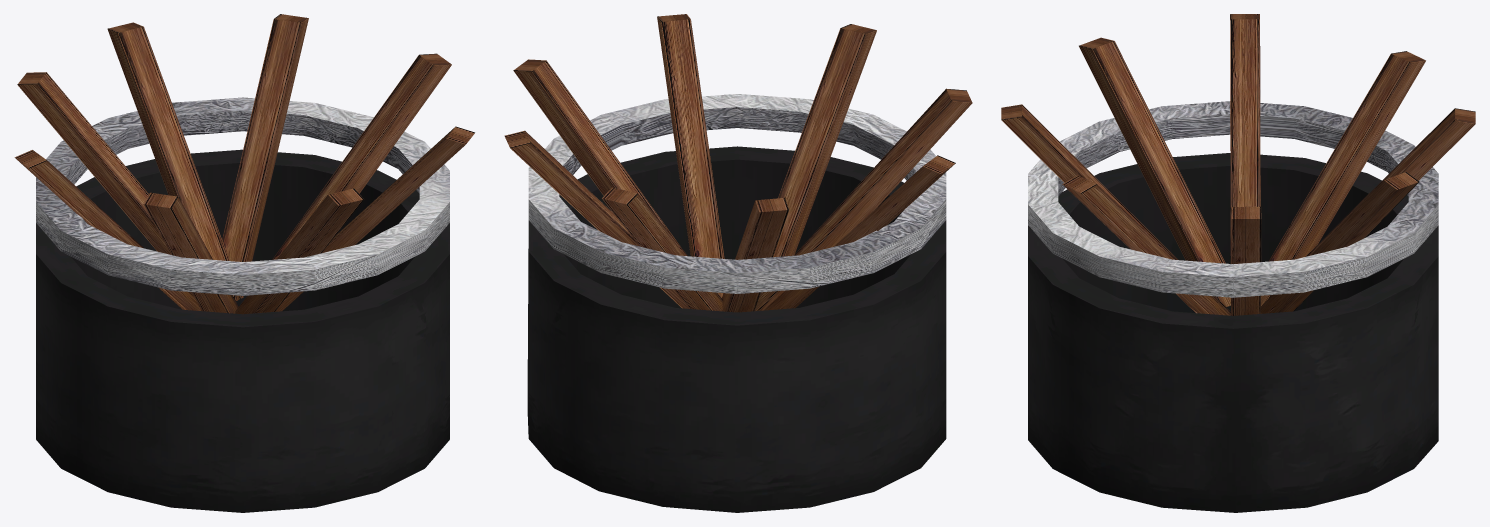
Rendered from Stove.FBX.
The picture shows the model from 3 angles, left to right: view 1: azimuth 30°, elevation 25°; view 2: azimuth 150°, elevation 25°; view 3: azimuth 270°, elevation 25°; orthographic projection.
Visible parts, largest first — view 1: Stove; view 2: Stove; view 3: Stove.
Boxes of the visible parts, <box> form: Stove: <box>14,14,474,512</box>; Stove: <box>504,14,972,512</box>; Stove: <box>1001,14,1475,512</box>.
Size of the model in its own units: 32.74 by 23.1 by 32.02.
